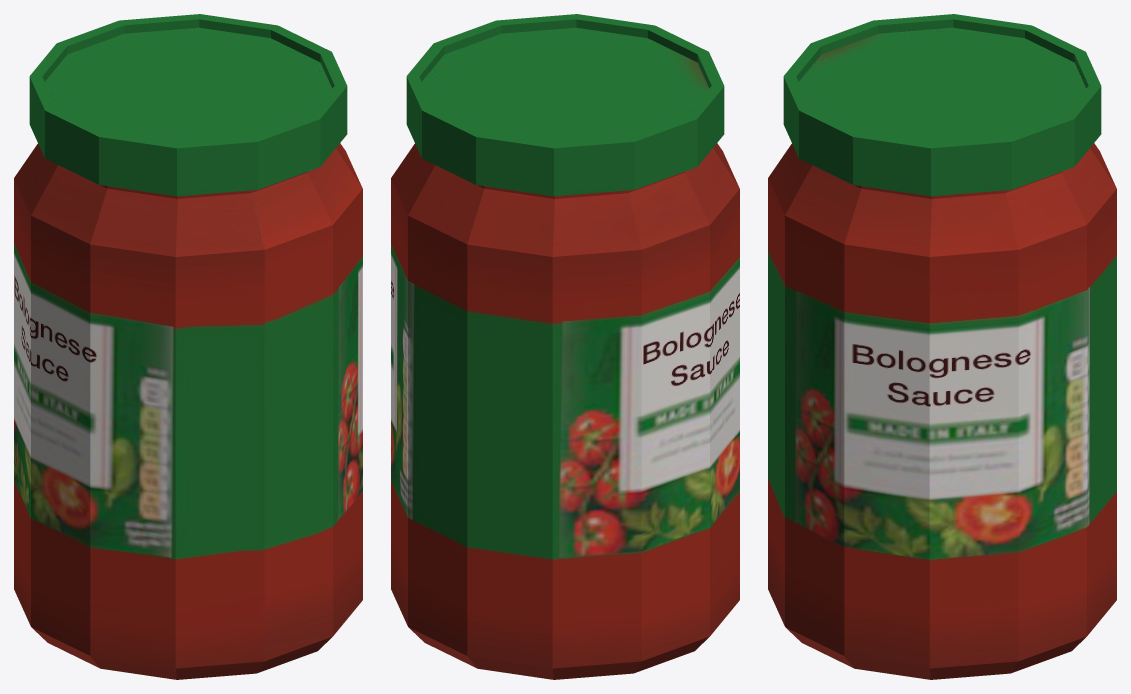
File: saucepasta.fbx
The picture shows the model from 3 angles, left to right: view 1: azimuth 30°, elevation 25°; view 2: azimuth 150°, elevation 25°; view 3: azimuth 270°, elevation 25°; orthographic projection.
Parts seen in each view (by area): view 1: MustardJar.040; view 2: MustardJar.040; view 3: MustardJar.040.
Boxes of the visible parts, left/top/right/bottom form: MustardJar.040: left=14, top=14, right=362, bottom=679; MustardJar.040: left=391, top=14, right=739, bottom=679; MustardJar.040: left=768, top=14, right=1116, bottom=679.
Bounding box in the file's own units: 25.55 × 43.08 × 25.55.
